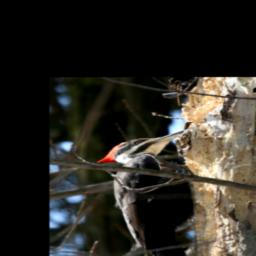Woodpecker: (95, 130, 197, 256)
